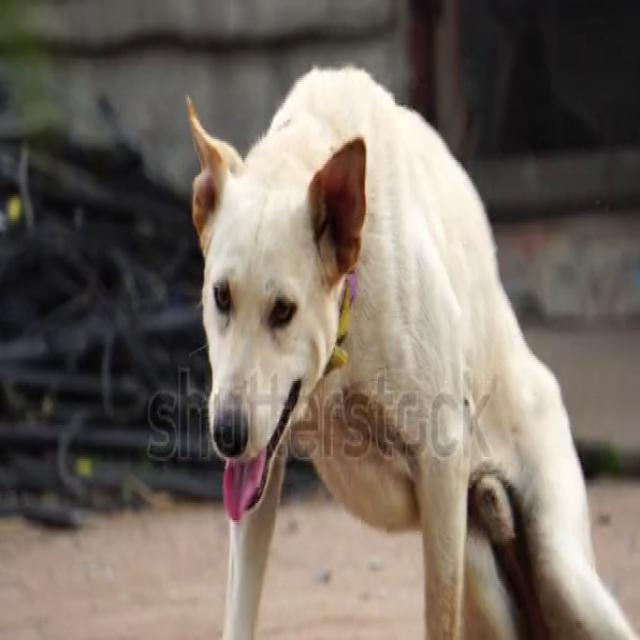injured-animals: (179, 59, 639, 638)
